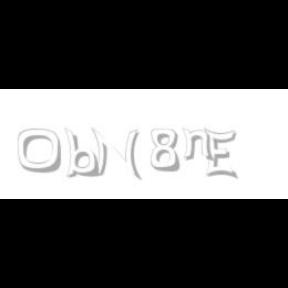8: (150, 128, 180, 172)
E: (204, 128, 236, 180)
N: (91, 128, 140, 180)
O: (18, 128, 62, 174)
b: (64, 128, 102, 178)
n: (181, 128, 215, 162)
